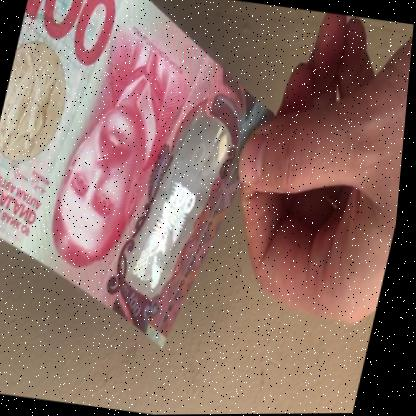100F: (130, 126, 226, 299)
